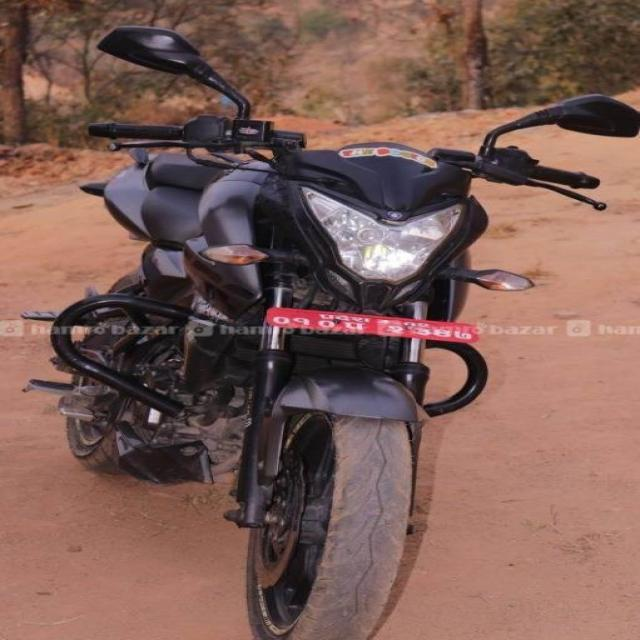License-plate: (253, 302, 493, 346)
